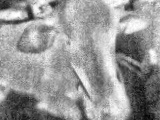eye: (59, 36, 75, 50)
